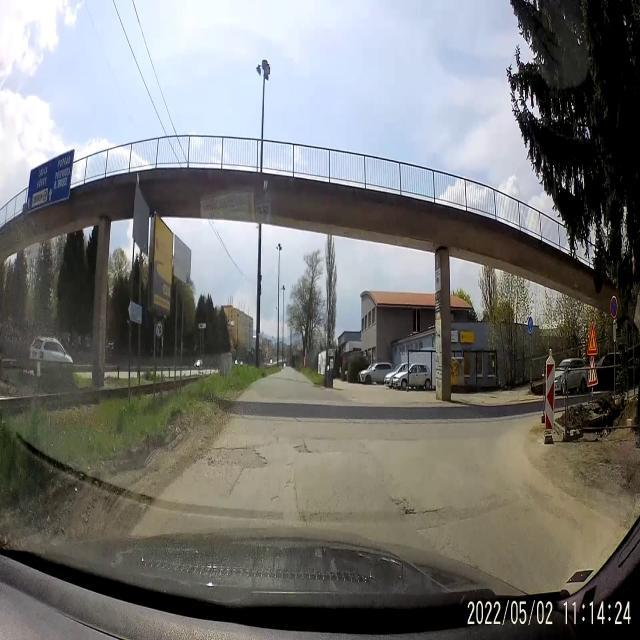Pothole: (204, 441, 270, 475), (386, 490, 419, 521), (290, 435, 314, 463), (422, 500, 447, 520), (282, 476, 296, 491), (269, 492, 282, 504)
